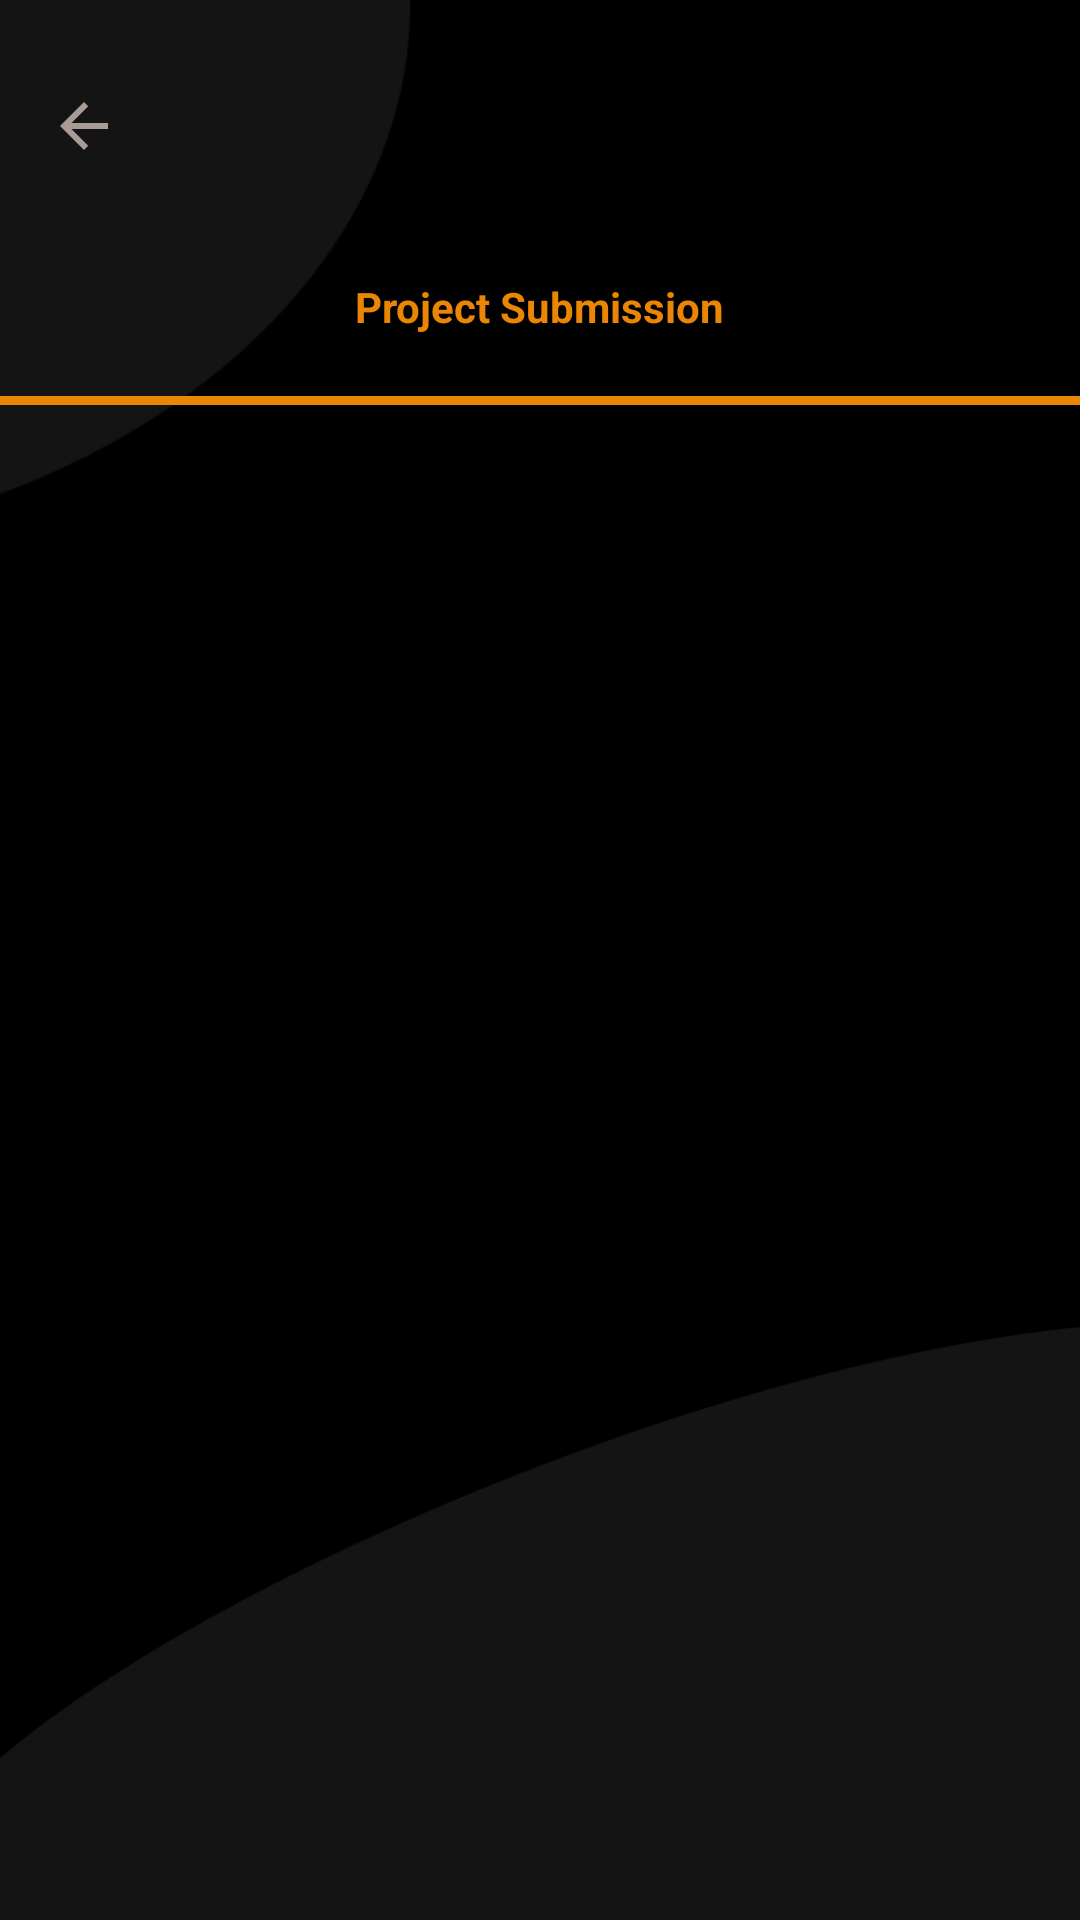

Named icons in this screenshot (1080×1920) and their bounding boxes, (x1, y1, x2, y2):
arrow back: (60, 102, 108, 150)
